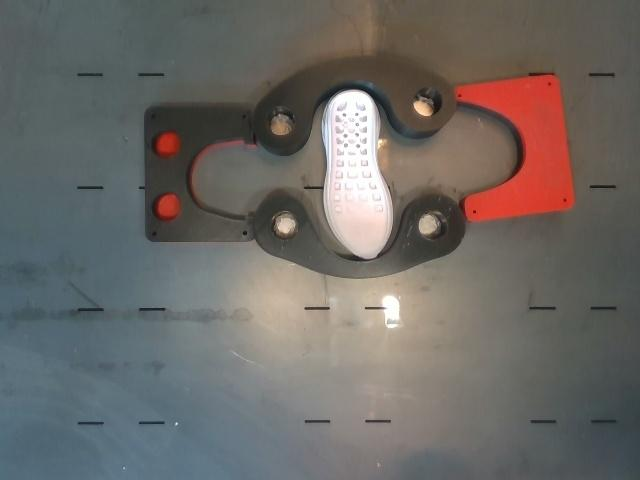shoes: (328, 92, 389, 258)
